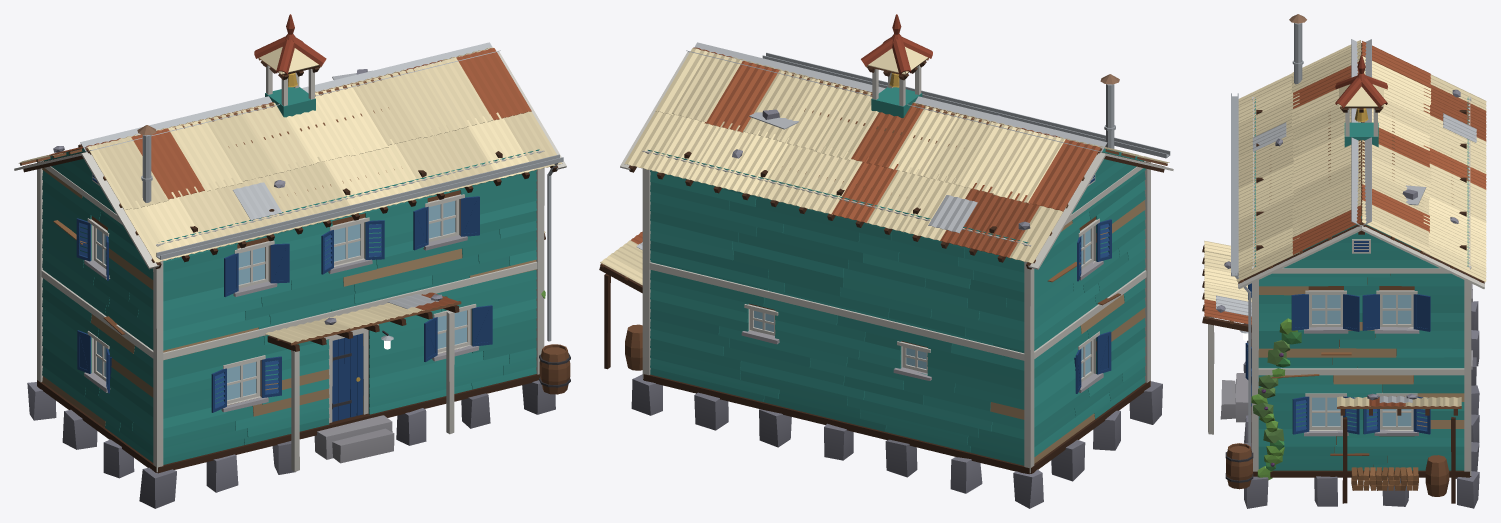
3 renders of one model, left to right at view 1: azimuth 30°, elevation 25°; view 2: azimuth 150°, elevation 25°; view 3: azimuth 270°, elevation 25°, orthographic. The views are drawn at different scales.
Parts seen in each view (by area): view 1: P08_WALL_S, P08_ROOF, P08_WALL_W, P08_BASE, P08_DOOR_main, P08_WALL_E; view 2: P08_WALL_N, P08_ROOF, P08_WALL_W, P08_BASE, P08_WALL_S, P08_WALL_E; view 3: P08_WALL_E, P08_ROOF, P08_WALL_S, P08_BASE, P08_WALL_N.
Part boxes in pixels (x1,y1,x2,y2): P08_WALL_S: (153, 149, 570, 472); P08_ROOF: (14, 14, 566, 269); P08_WALL_W: (37, 148, 163, 471); P08_BASE: (27, 374, 555, 508); P08_DOOR_main: (332, 333, 363, 421); P08_WALL_E: (536, 149, 545, 374); P08_WALL_N: (642, 150, 1030, 473); P08_ROOF: (620, 14, 1173, 269); P08_WALL_W: (1025, 148, 1150, 472); P08_BASE: (631, 374, 1162, 508); P08_WALL_S: (762, 52, 1170, 382); P08_WALL_E: (599, 151, 650, 370); P08_WALL_E: (1251, 213, 1470, 503); P08_ROOF: (1236, 14, 1486, 289); P08_WALL_S: (1202, 93, 1258, 489); P08_BASE: (1220, 301, 1479, 508); P08_WALL_N: (1467, 97, 1472, 475).
Size of the model in its own units: 10.11 by 8.52 by 6.02.
